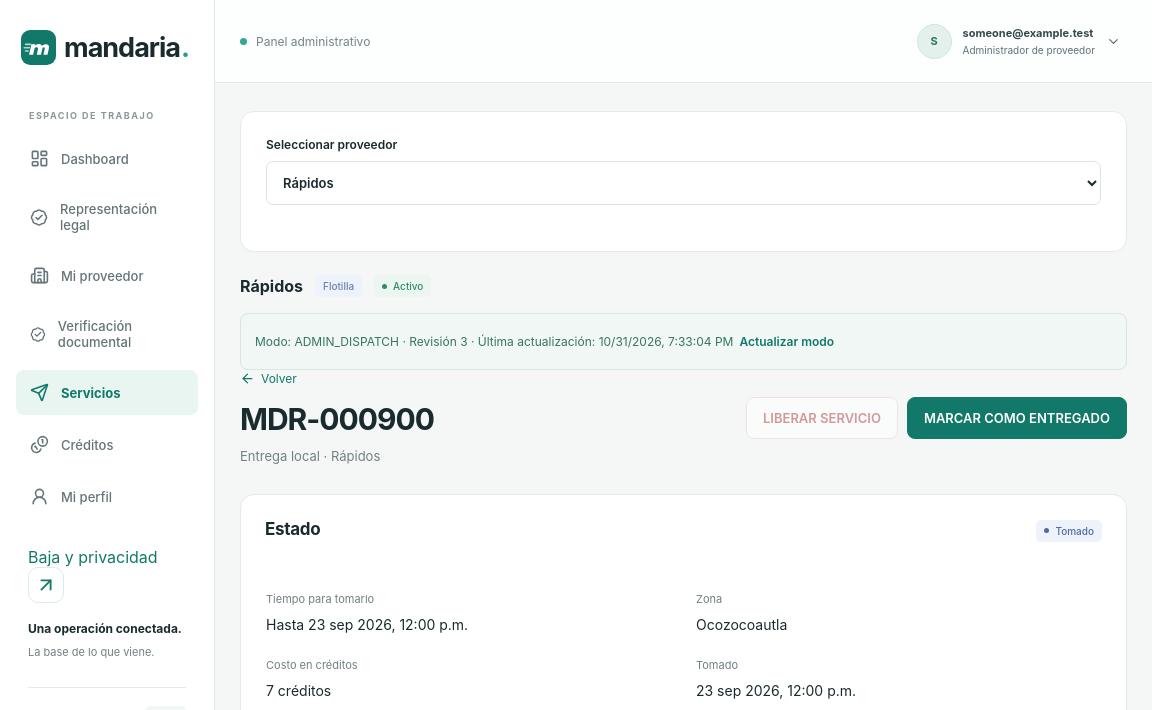
Test: provider completion › confirms with an explicit dialog and refreshes from the backend
What coordinates should you click on to do the following:
click the button "MARCAR COMO ENTREGADO"
I would click on:
 (1017, 418)
Its box is [907,397,1127,439].
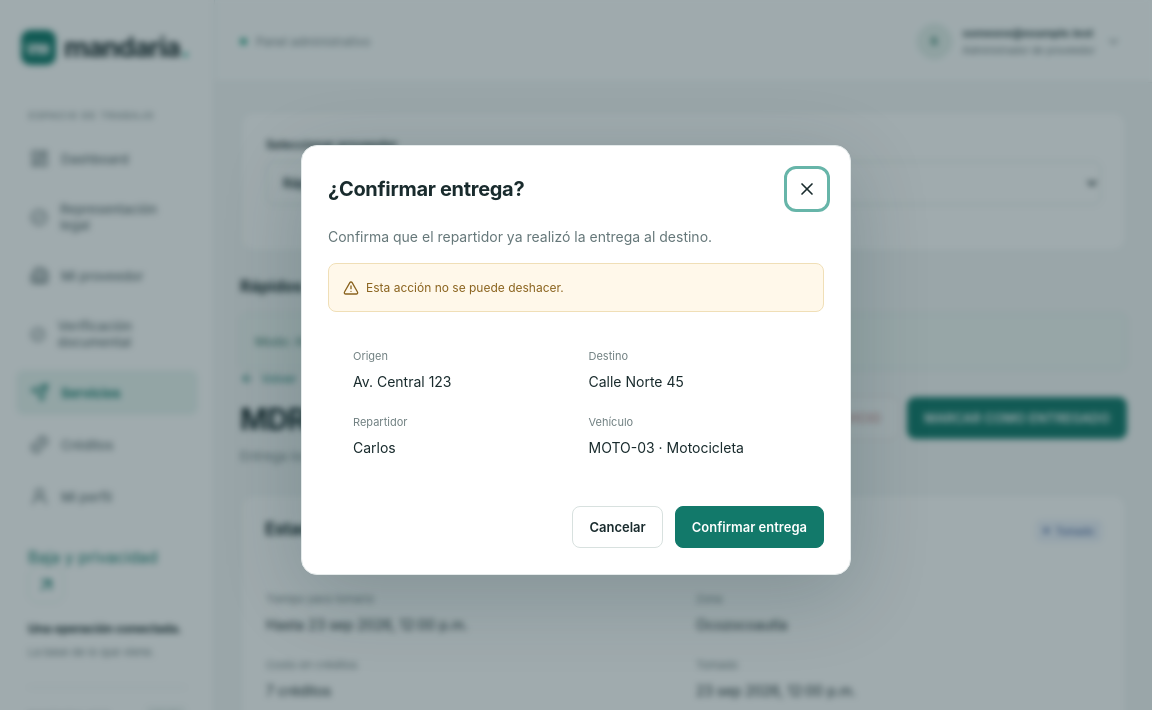
Expected: the dialog "¿Confirmar entrega?" is shown, [301,145,851,575]
Expected: the text "Confirma que el repartidor ya realizó la entrega al destino." is shown, [328,228,712,245]
Expected: the element showing "Esta acción no se puede deshacer." is shown, [328,263,824,312]
What coordinates should you click on to do the following:
click the button "Confirmar entrega"
I would click on:
 (749, 527)
Its box is [675,506,824,548].
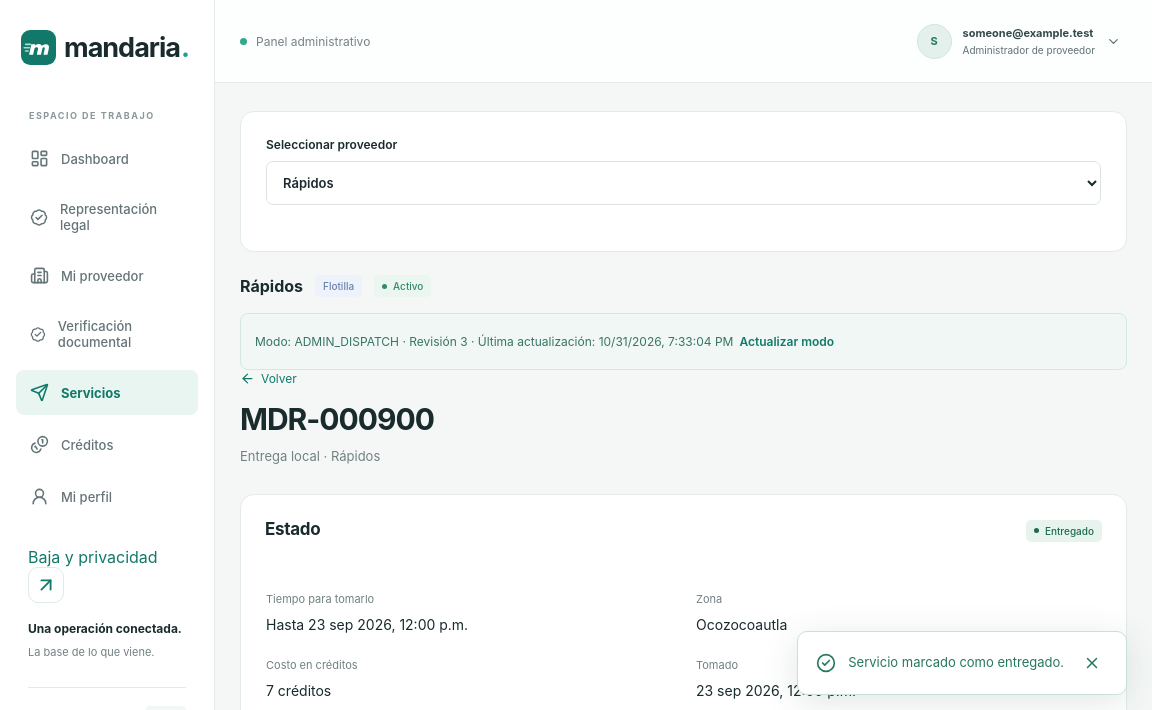
Expected: the dialog is gone
Expected: the text "Entregado" is shown, [1026,520,1102,542]
Expected: the button "MARCAR COMO ENTREGADO" is gone
